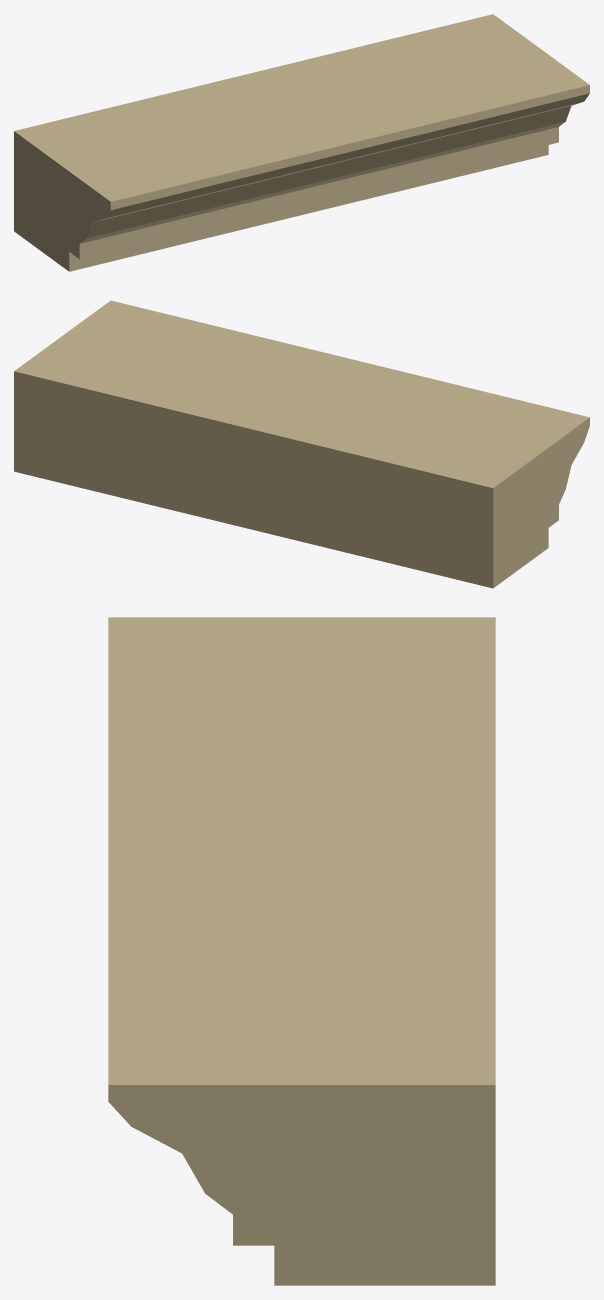
Rendered from rpg-mansion-stone-cornice-straight-01.glb.
The picture shows the model from 3 angles, top to bottom: view 1: azimuth 30°, elevation 25°; view 2: azimuth 150°, elevation 25°; view 3: azimuth 270°, elevation 25°; orthographic projection. The views are drawn at different scales.
Visible parts, largest first — view 1: rpg-mansion-stone-cornice-straight-01; view 2: rpg-mansion-stone-cornice-straight-01; view 3: rpg-mansion-stone-cornice-straight-01.
Part boxes in pixels (box(x1,y1,x2,y2)): rpg-mansion-stone-cornice-straight-01: box(14, 14, 589, 271); rpg-mansion-stone-cornice-straight-01: box(14, 300, 589, 588); rpg-mansion-stone-cornice-straight-01: box(108, 617, 495, 1285).
Bounding box in the file's own units: 1.2 × 0.24 × 0.42.
